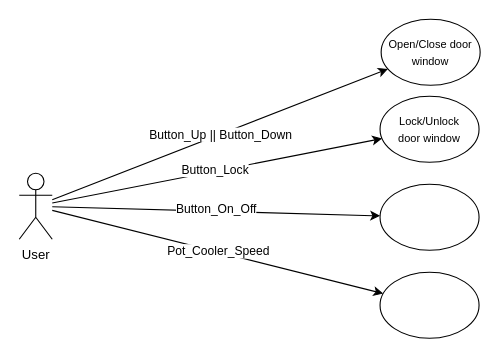
Some shapes in this 499 by 358 pixel diagram are drawn without their labels. The centre of each missing label's shape, as x and y in pixels:
"Change cooler intensity" belongs at point (429, 304).
"Turn ON/OFF CLIMATE SYS" belongs at point (429, 216).
